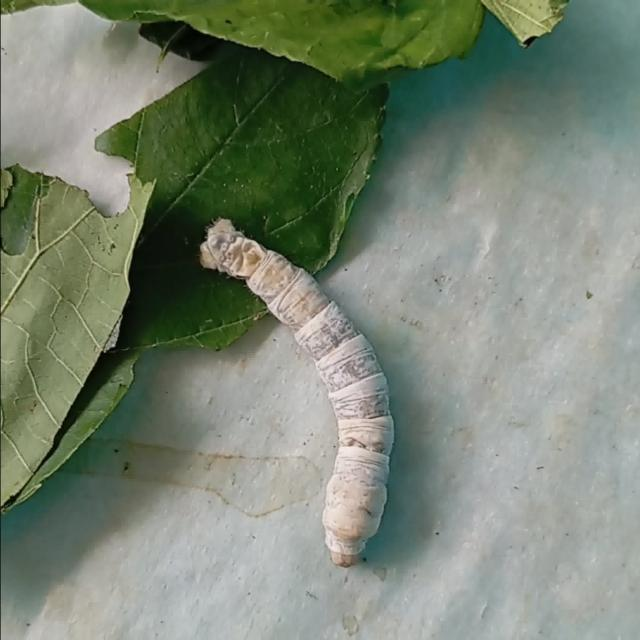Grasserie: (187, 202, 429, 577)
